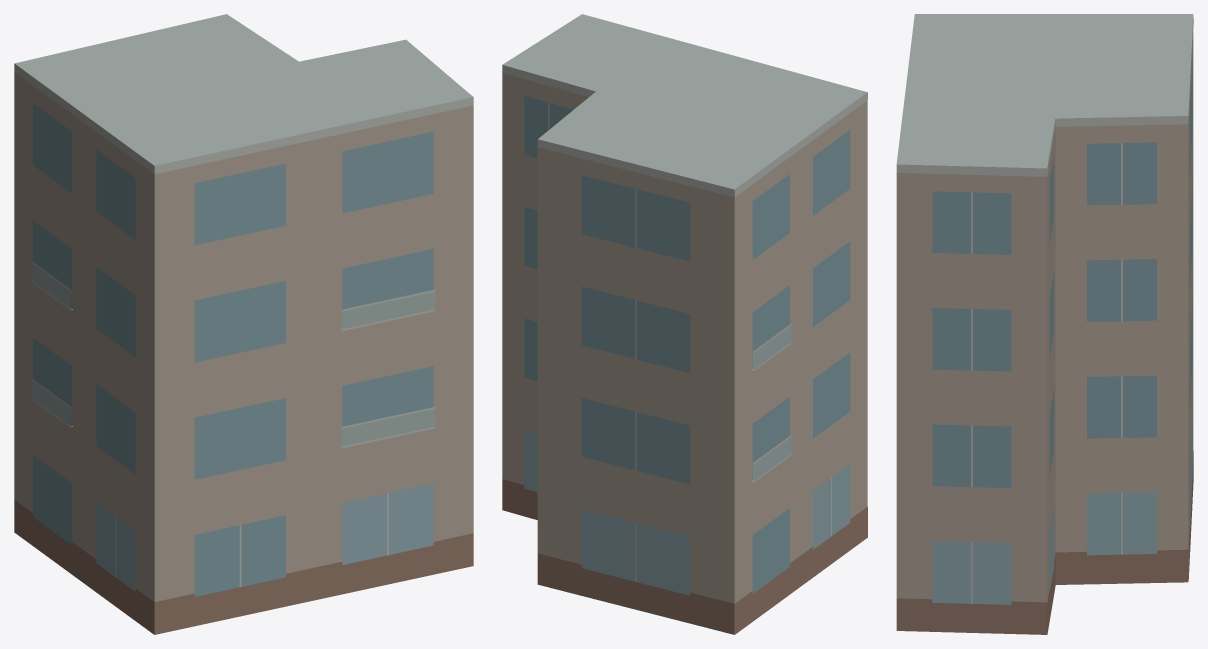
The model's file is survey-upis-32982193.glb.
The picture shows the model from 3 angles, left to right: view 1: azimuth 30°, elevation 25°; view 2: azimuth 150°, elevation 25°; view 3: azimuth 270°, elevation 25°; orthographic projection. The views are drawn at different scales.
Visible parts, largest first — view 1: survey-upis-32982193.tmp; view 2: survey-upis-32982193.tmp; view 3: survey-upis-32982193.tmp.
Part boxes in pixels (x1=…): survey-upis-32982193.tmp: x1=14, y1=14, x2=473, y2=634; survey-upis-32982193.tmp: x1=502, y1=14, x2=867, y2=634; survey-upis-32982193.tmp: x1=896, y1=14, x2=1193, y2=634.
Bounding box in the file's own units: 9.74 × 13.65 × 7.89.
